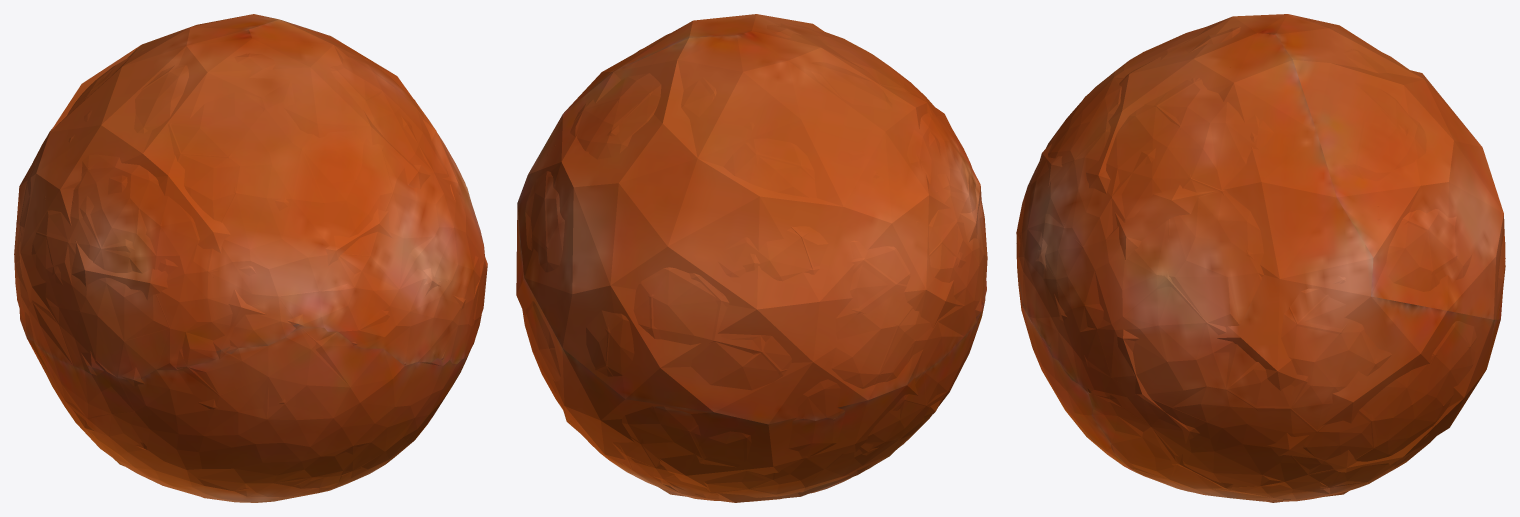
File: imp-oranges.glb
3 renders of one model, left to right at view 1: azimuth 30°, elevation 25°; view 2: azimuth 150°, elevation 25°; view 3: azimuth 270°, elevation 25°, orthographic.
Visible parts, largest first — view 1: textured.obj (×3); view 2: textured.obj (×3); view 3: textured.obj (×3).
Boxes of the visible parts, left/top/right/bottom form: textured.obj (×3): left=14, top=14, right=487, bottom=502; textured.obj (×3): left=516, top=14, right=987, bottom=502; textured.obj (×3): left=1016, top=14, right=1505, bottom=502.
Bounding box in the file's own units: 0.074 × 0.0731 × 0.075.
Materials: 1 (1 with a texture image).
